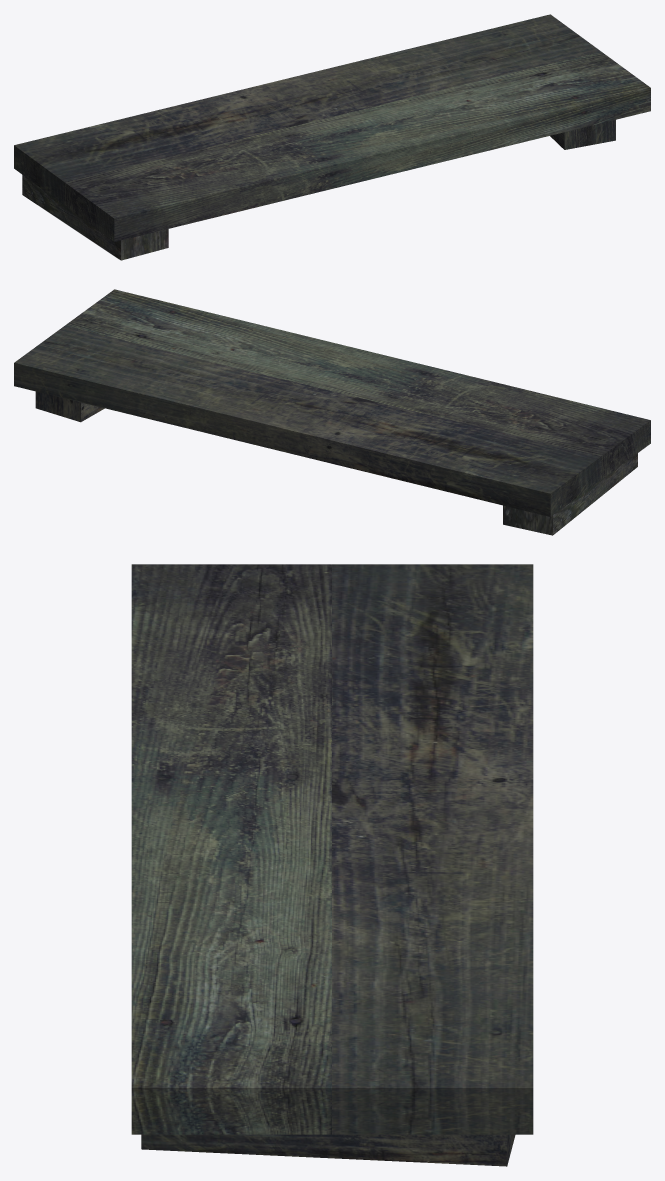
File: OldWoodenFlooringConnectionBoard №2.fbx
3 views of the same model, one above another, from view 1: azimuth 30°, elevation 25°; view 2: azimuth 150°, elevation 25°; view 3: azimuth 270°, elevation 25° (orthographic). The views are drawn at different scales.
Parts seen in each view (by area): view 1: OldWoodenFlooringConnectionBoard_№2; view 2: OldWoodenFlooringConnectionBoard_№2; view 3: OldWoodenFlooringConnectionBoard_№2.
Part boxes in pixels (<box>): OldWoodenFlooringConnectionBoard_№2: <box>14,14,650,260</box>; OldWoodenFlooringConnectionBoard_№2: <box>14,289,650,535</box>; OldWoodenFlooringConnectionBoard_№2: <box>131,564,533,1166</box>.
Bounding box in the file's own units: 2 × 0.166 × 0.6492.
